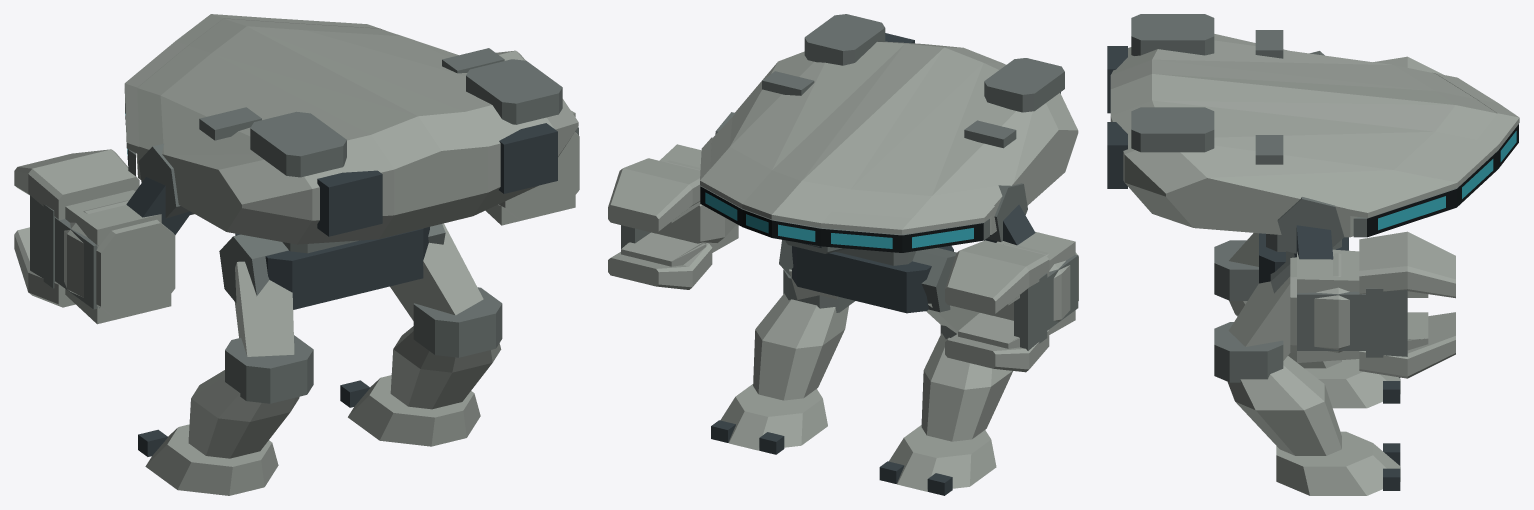
Rendered from king-crab.glb.
3 views of the same model, side by side, from view 1: azimuth 30°, elevation 25°; view 2: azimuth 150°, elevation 25°; view 3: azimuth 270°, elevation 25° (orthographic). The views are drawn at different scales.
Parts seen in each view (by area): view 1: LT, RT, CT, LL-shin, RL-shin, LA@hand, LA@forearm, pelvis, LL, RL-foot, LL-foot, LA@elbow (+3 smaller); view 2: LT, RT, LA@hand, CT, RA@hand, RL-shin, LL-shin, pelvis, HD, LL-foot, RL-foot, LA@elbow (+8 smaller); view 3: RT, LT, RA@hand, RL-shin, CT, RL-foot, RA@elbow, RL, HD, RA, LL-foot, RA@forearm (+3 smaller).
Boxes of the visible parts, x1,y1,x2,y2 form: LT: (124, 26, 419, 253); RT: (239, 16, 578, 222); CT: (195, 14, 463, 247); LL-shin: (188, 335, 313, 458); RL-shin: (390, 287, 502, 409); LA@hand: (14, 149, 139, 307); LA@forearm: (64, 200, 175, 318); pelvis: (235, 227, 429, 309); LL: (219, 234, 294, 356); RL-foot: (340, 375, 480, 446); LL-foot: (138, 424, 278, 495); LA@elbow: (55, 190, 171, 324); LT: (794, 54, 1078, 265); RT: (700, 14, 942, 251); LA@hand: (945, 240, 1049, 372); CT: (758, 45, 981, 260); RA@hand: (608, 158, 712, 289); RL-shin: (753, 269, 854, 400); LL-shin: (921, 325, 1012, 441); pelvis: (792, 245, 953, 313); HD: (700, 185, 989, 252); LL-foot: (879, 425, 996, 495); RL-foot: (711, 384, 827, 454); LA@elbow: (958, 231, 1078, 343); RT: (1107, 86, 1509, 251); LT: (1107, 14, 1509, 113); RA@hand: (1359, 231, 1455, 378); RL-shin: (1214, 322, 1341, 455); CT: (1110, 67, 1519, 134); RL-foot: (1276, 431, 1400, 495); RA@elbow: (1297, 249, 1428, 362); RL: (1228, 251, 1294, 360); HD: (1353, 124, 1518, 237); RA: (1277, 197, 1344, 259); LL-foot: (1305, 359, 1400, 408); RA@forearm: (1290, 253, 1349, 352).
Bounding box in the file's own units: 66.8 × 52.16 × 54.67.
